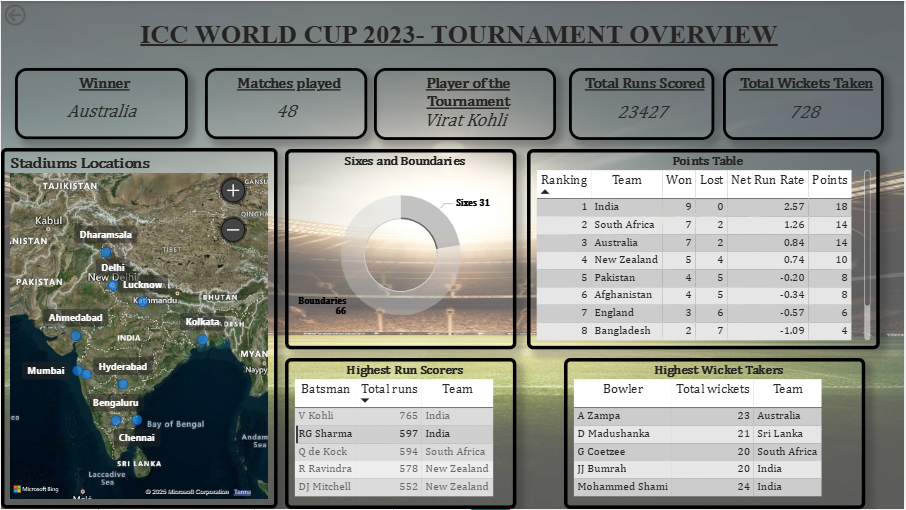

The dashboard page shown, as its layout file describes it:
{"tool":"powerbi","page":{"name":"Tournament ANalysis","canvas":[1280,720],"ordinal":0},"visuals":[{"type":"card","title":"Matches played","fields":{"Values":["matches.matchnumber"]},"box":[289.1,95,229.6,100.6],"z":0},{"type":"card","title":"Total Runs Scored","fields":{"Values":["deliveries.runs_off_bat"]},"box":[805.6,94.6,206.4,101.8],"z":1000},{"type":"card","title":"Total Wickets Taken","fields":{"Values":["deliveries.wicket_type"]},"box":[1023.4,94.6,227.9,101.8],"z":2000},{"type":"tableEx","title":"Highest Run Scorers","fields":{"Values":["deliveries.striker","deliveries.runs_off_bat","deliveries.batting_team"]},"box":[402.8,506,328.2,213.6],"z":3000},{"type":"tableEx","title":"Highest Wicket Takers","fields":{"Values":["deliveries.bowler","deliveries.Total wickets","deliveries.bowling_team"]},"box":[798.4,506,427.1,213.6],"z":4000},{"type":"donutChart","fields":{"Y":["deliveries.Sixes","deliveries.Boundaries"]},"box":[402.8,209.3,328.2,283.8],"z":5000},{"type":"card","title":"Player of the Tournament","fields":{"Values":["POTT.player"]},"box":[528.7,95,258,102],"z":6000},{"type":"tableEx","title":"Points Table","fields":{"Values":["points_table.Ranking","points_table.Team","points_table.Won","points_table.Lost","points_table.Net Run Rate","points_table.Points"]},"box":[745.4,209.3,500.2,283.8],"z":7000},{"type":"actionButton","box":[0,0,100,40],"z":8000},{"type":"map","title":"Stadiums Locations","fields":{"Category":["matches.city"]},"box":[0,208.8,391.7,511.2],"z":9000},{"type":"textbox","box":[143.3,20.1,1012,55.9],"z":10000},{"type":"card","title":"Winner","fields":{"Values":["matches.Tournament Winner"]},"box":[19.8,95,245.2,100.6],"z":11000}]}

Visuals, with their boxes in screenshot pixels (x1, y1, x2, y2), scaled from the page's 1280x720 canvas onto the 906x510 screenshot:
"Matches played" card: <region>205, 67, 367, 139</region>
"Total Runs Scored" card: <region>570, 67, 716, 139</region>
"Total Wickets Taken" card: <region>724, 67, 886, 139</region>
"Highest Run Scorers" tableEx: <region>285, 358, 517, 509</region>
"Highest Wicket Takers" tableEx: <region>565, 358, 867, 509</region>
donutChart - deliveries.Sixes x deliveries.Boundaries: <region>285, 148, 517, 349</region>
"Player of the Tournament" card: <region>374, 67, 557, 140</region>
"Points Table" tableEx: <region>528, 148, 882, 349</region>
actionButton: <region>0, 0, 71, 28</region>
"Stadiums Locations" map: <region>0, 148, 277, 509</region>
textbox: <region>101, 14, 818, 54</region>
"Winner" card: <region>14, 67, 188, 139</region>
